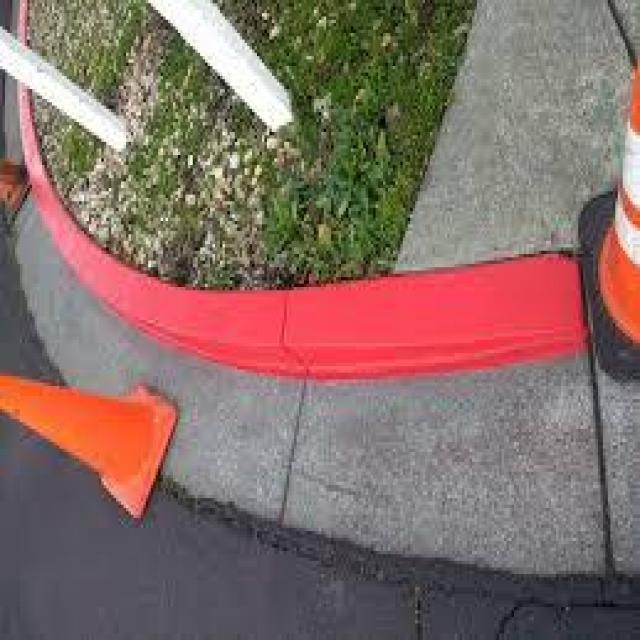curb: (280, 253, 579, 390), (82, 246, 286, 375), (14, 108, 95, 283)
